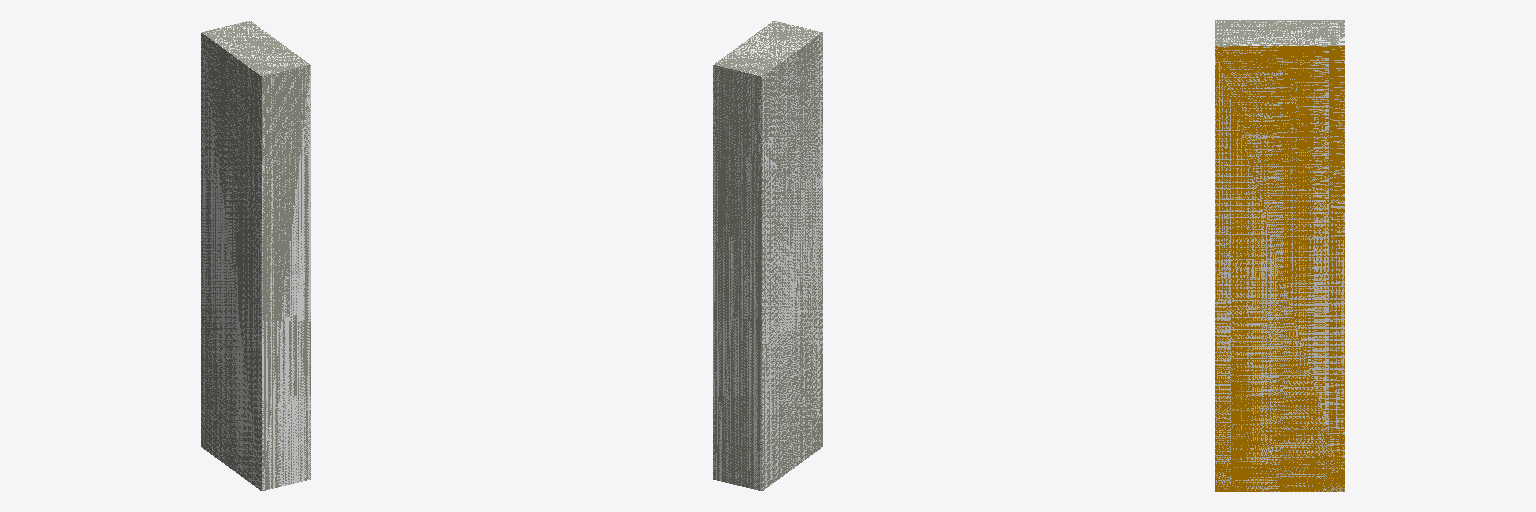
The robot description file, URDF, robot "my_object":
<?xml version="1.0" ?> 
<robot name="my_object" static="true">
  <link name="base_link">
  <inertial>
    <mass value="1.0" />
    <origin xyz="0 0 0.0" />
    <inertia ixx="1.0" ixy="0.0" ixz="0.0" iyy="1.0" iyz="0.0" izz="1.0"/>
  </inertial>
  <visual>
   <origin xyz="0 0 0.0" rpy="0 0 0" />
   <geometry>
     <mesh filename="package://cob_gazebo_objects/Media/models/power_outlet.dae"/>
   </geometry>
  </visual>
  <collision>
   <origin xyz="0 0 0.0" rpy="0 0 0" />
   <geometry>
     <mesh filename="package://cob_gazebo_objects/Media/models/power_outlet.dae" />
   </geometry>
  </collision>     
  </link>

<gazebo>
	<static>true</static>
</gazebo>
</robot>

--- What the picture shows (computed from the rendered views, not written in the file) ---
The picture shows the robot from 3 angles, left to right: view 1: azimuth 30°, elevation 25°; view 2: azimuth 150°, elevation 25°; view 3: azimuth 270°, elevation 25°; orthographic projection.
Robot: my_object — 1 links, 0 joints (none); root link base_link; default pose: every joint at zero.
Links seen in each view (by area): view 1: base_link; view 2: base_link; view 3: base_link.
Link boxes in pixels (bbox=[...]): base_link: bbox=[201, 21, 310, 490]; base_link: bbox=[713, 21, 822, 490]; base_link: bbox=[1215, 20, 1344, 491].
Size in the robot's own frame: 0.0603 by 0.1295 by 0.4896 metres.
Meshes: 1 distinct files referenced, 1 mesh visuals loaded (1 Collada DAE).